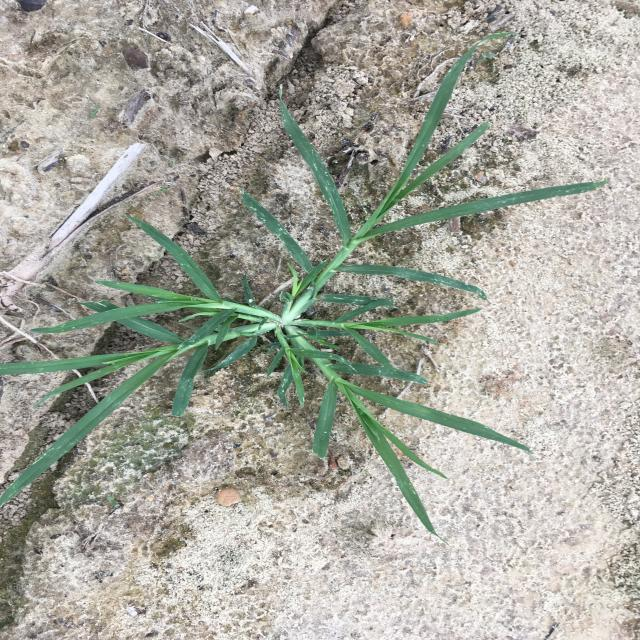Goosegrass: (0, 32, 606, 538)
